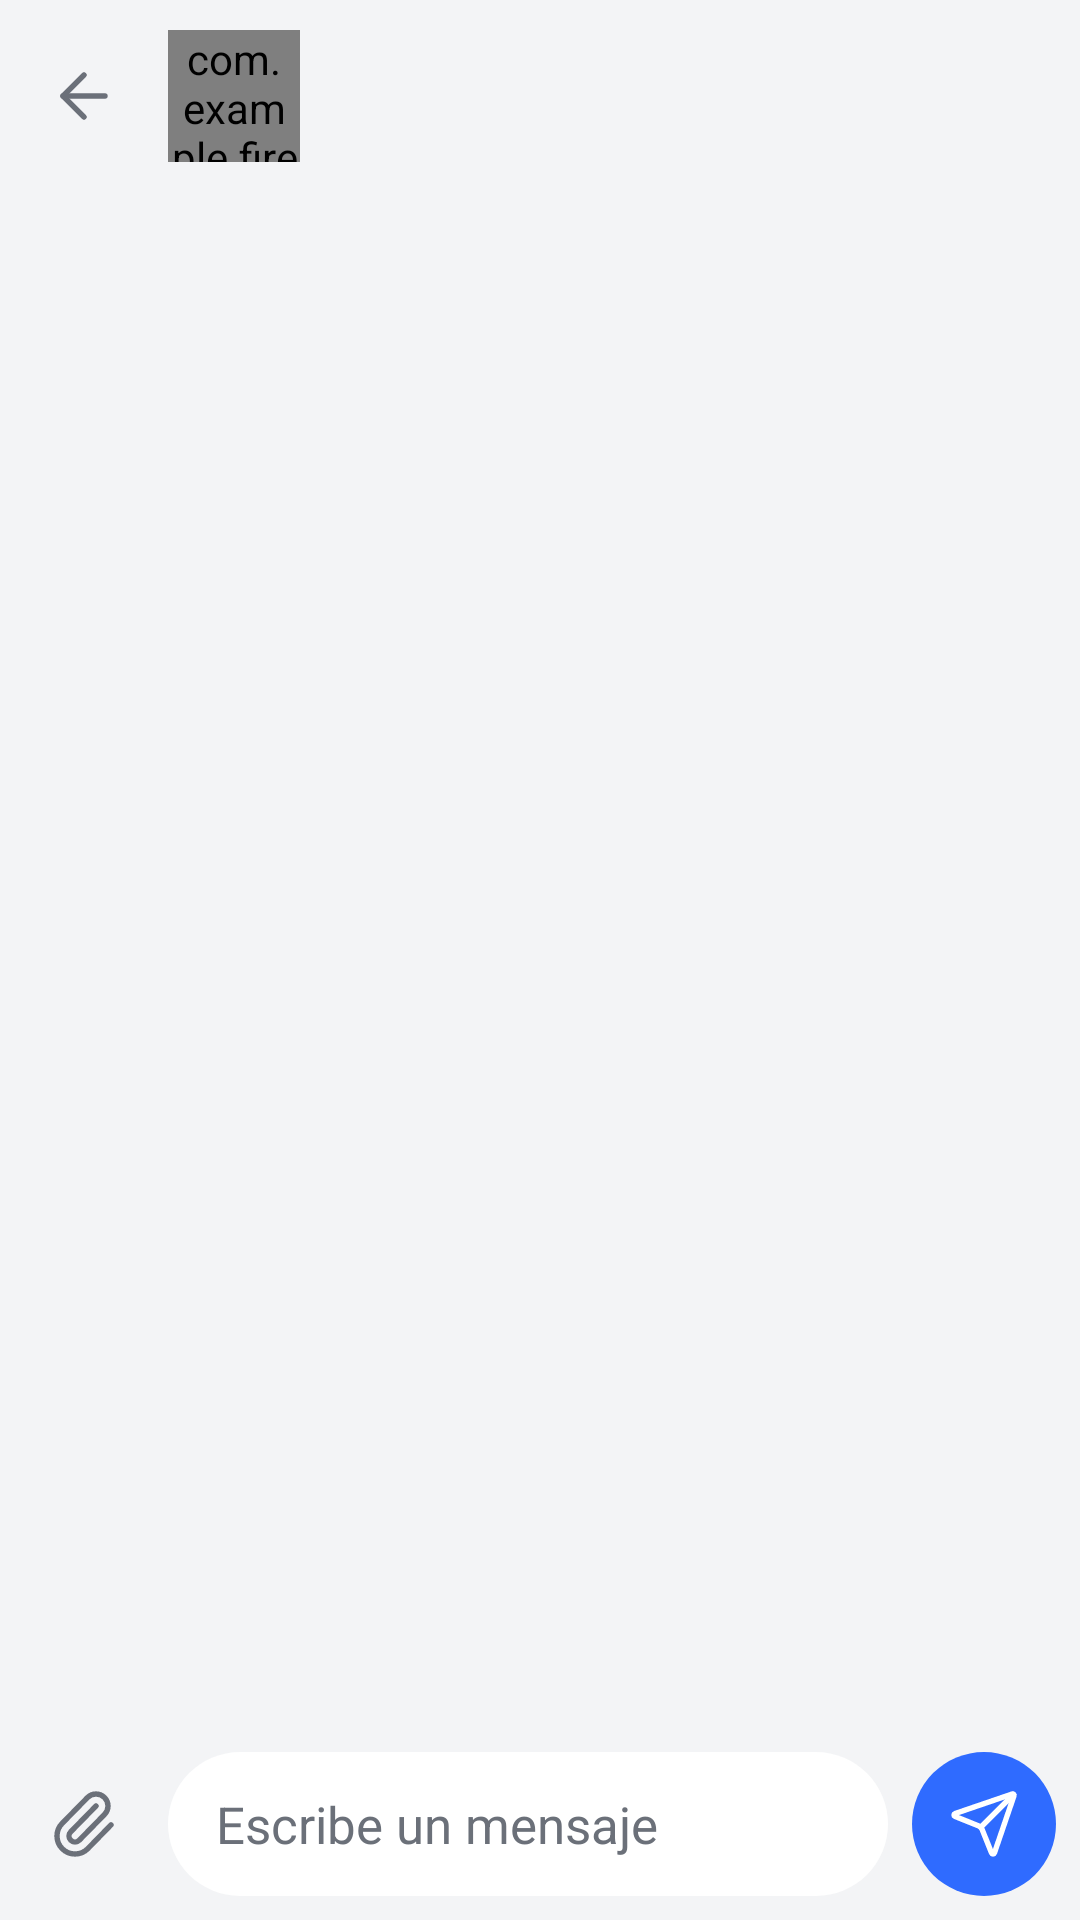

Locate icon controls on the screen. Image size 1080px×1920px, boxes as (x1, y1, x2, y2).
attach: (54, 1791, 114, 1857)
Enviar: (912, 1752, 1056, 1896)
